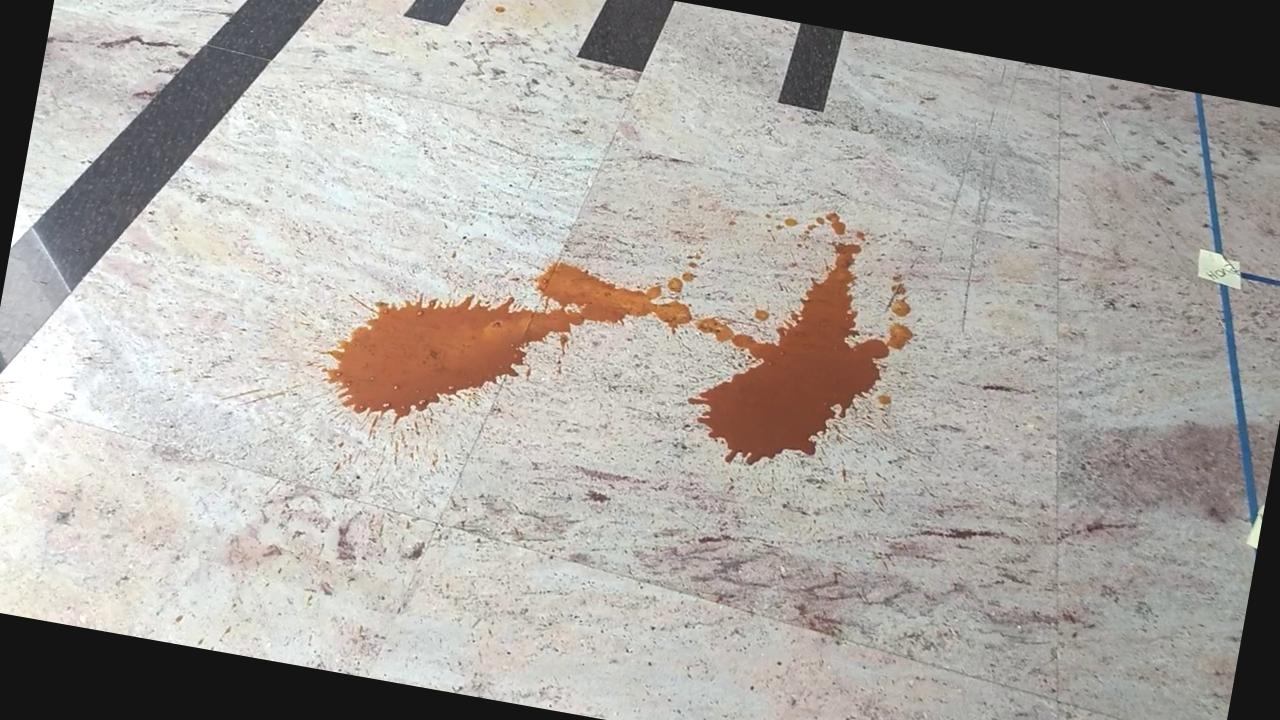dirty_floor: (311, 128, 924, 510)
